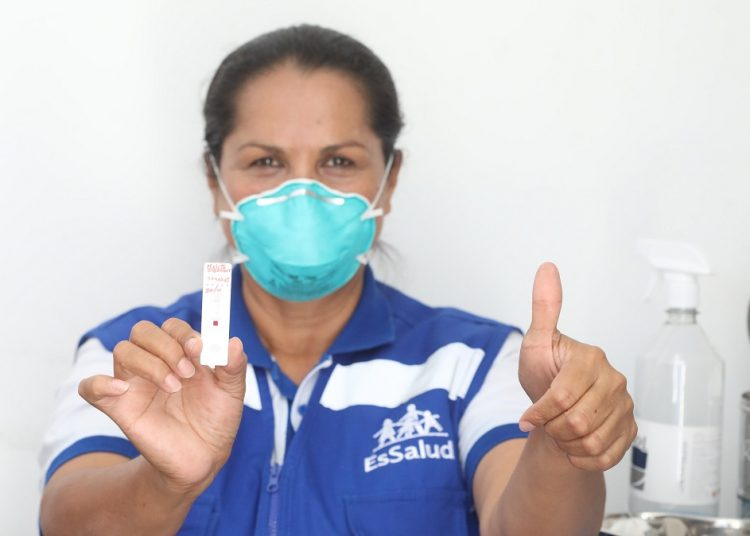with_mask: (211, 57, 409, 298)
